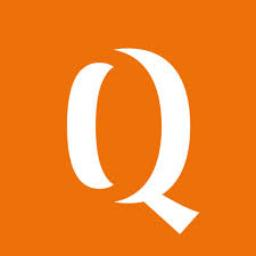q: (62, 40, 204, 240)
